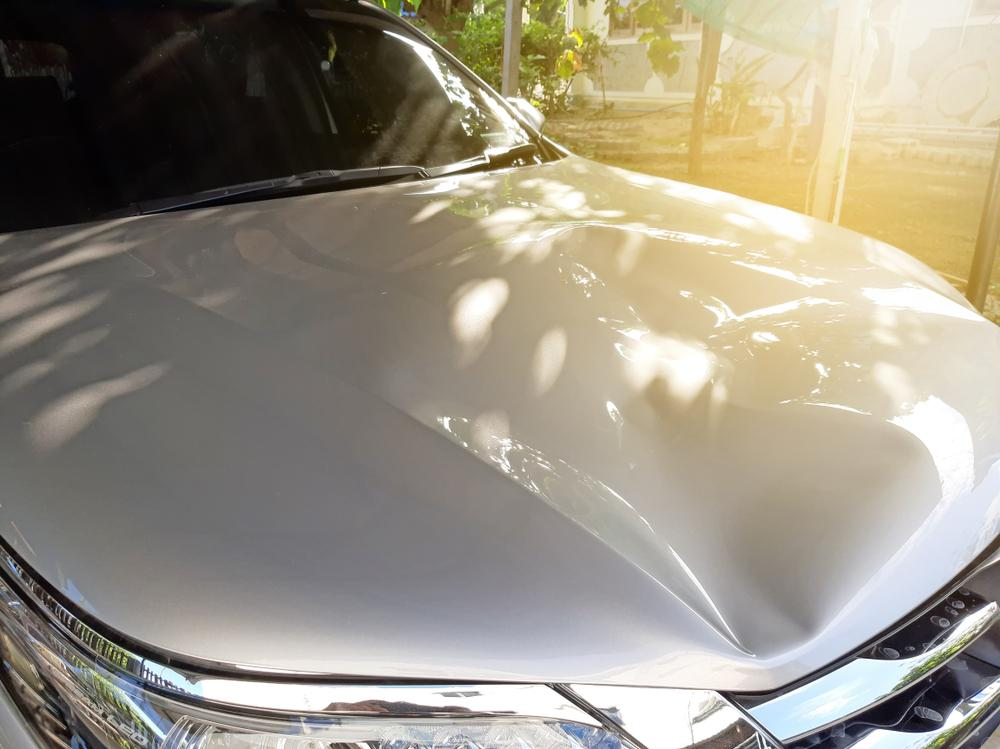dent: (614, 390, 935, 660)
